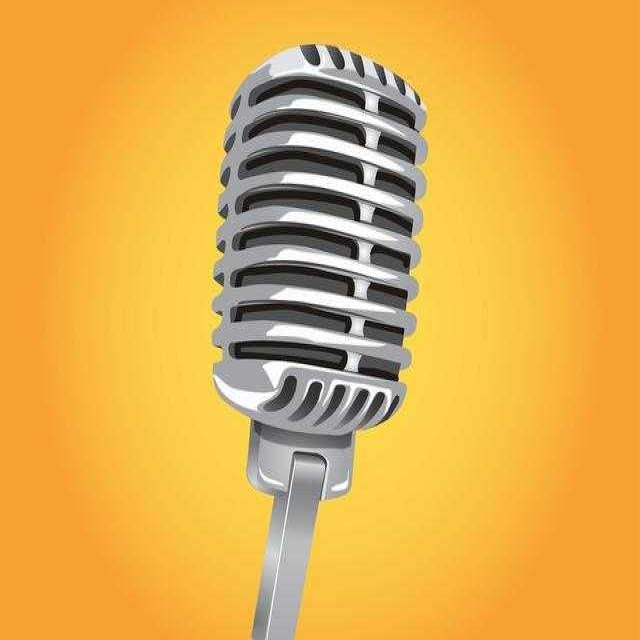microphone: (204, 43, 427, 639)
